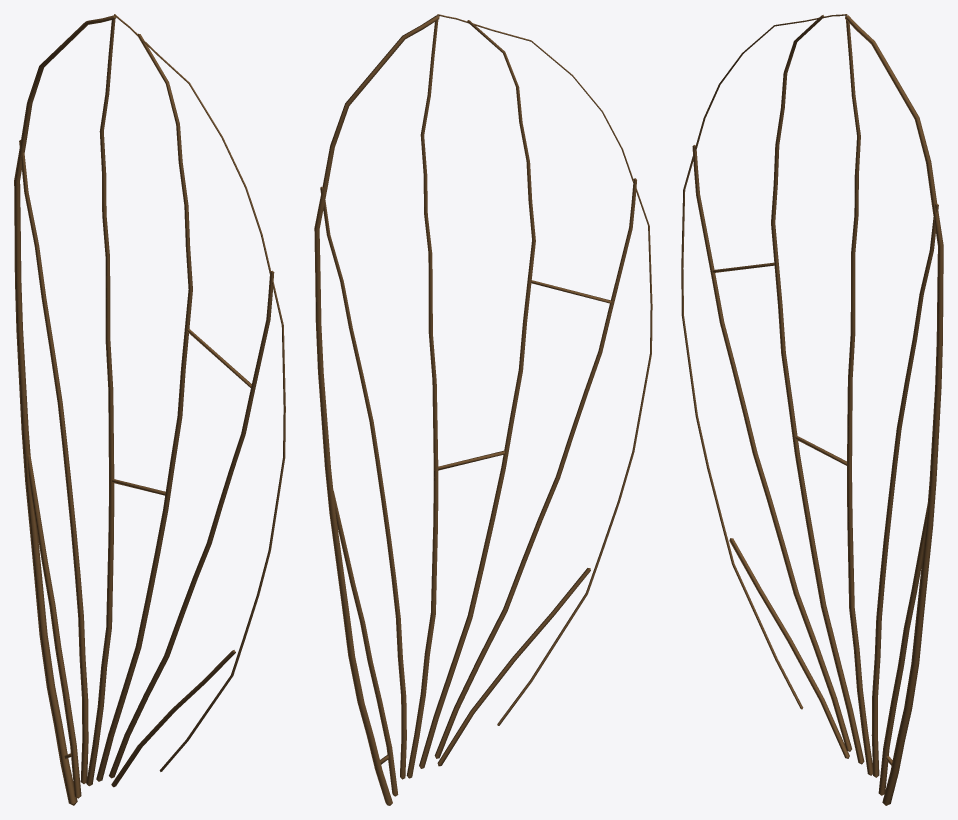
Rendered from wing_right_vein.obj.
The picture shows the model from 3 angles, left to right: view 1: azimuth 90°, elevation 25°; view 2: azimuth 150°, elevation 25°; view 3: azimuth 270°, elevation 25°; orthographic projection. The views are drawn at different scales.
Bounding box in the file's own units: 0.0707 × 0.2548 × 0.0779.
